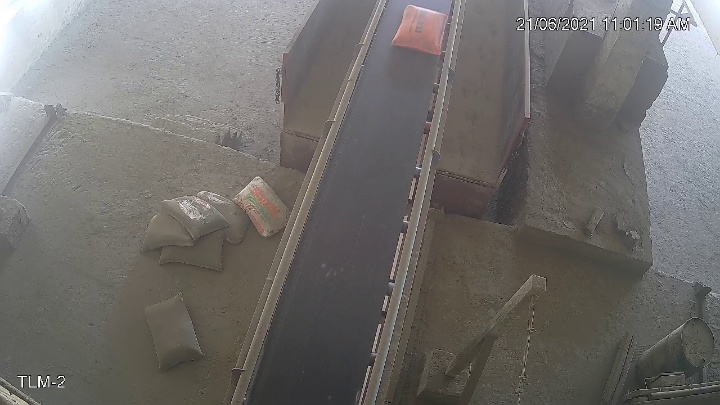bag: (392, 1, 449, 54)
